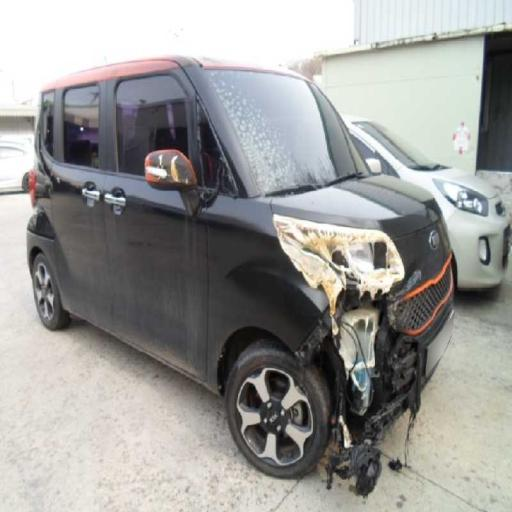broken: (259, 191, 435, 463)
